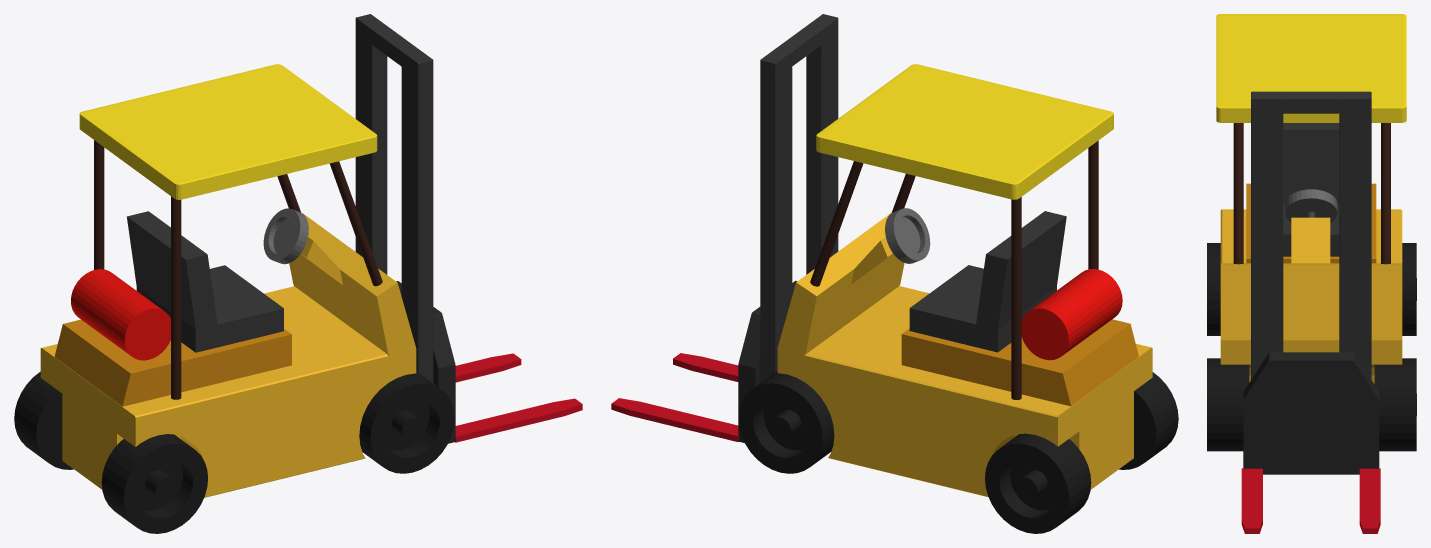
The model's file is forklift.glb.
The picture shows the model from 3 angles, left to right: view 1: azimuth 30°, elevation 25°; view 2: azimuth 150°, elevation 25°; view 3: azimuth 270°, elevation 25°; orthographic projection. The views are drawn at different scales.
Visible parts, largest first — view 1: Forklifter; view 2: Forklifter; view 3: Forklifter.
Boxes of the visible parts, x1,y1,x2,y2 form: Forklifter: [14, 14, 582, 533]; Forklifter: [611, 14, 1178, 533]; Forklifter: [1207, 14, 1416, 533].
Bounding box in the file's own units: 7.74 × 5.95 × 3.07.
1 material, 1 textured.
